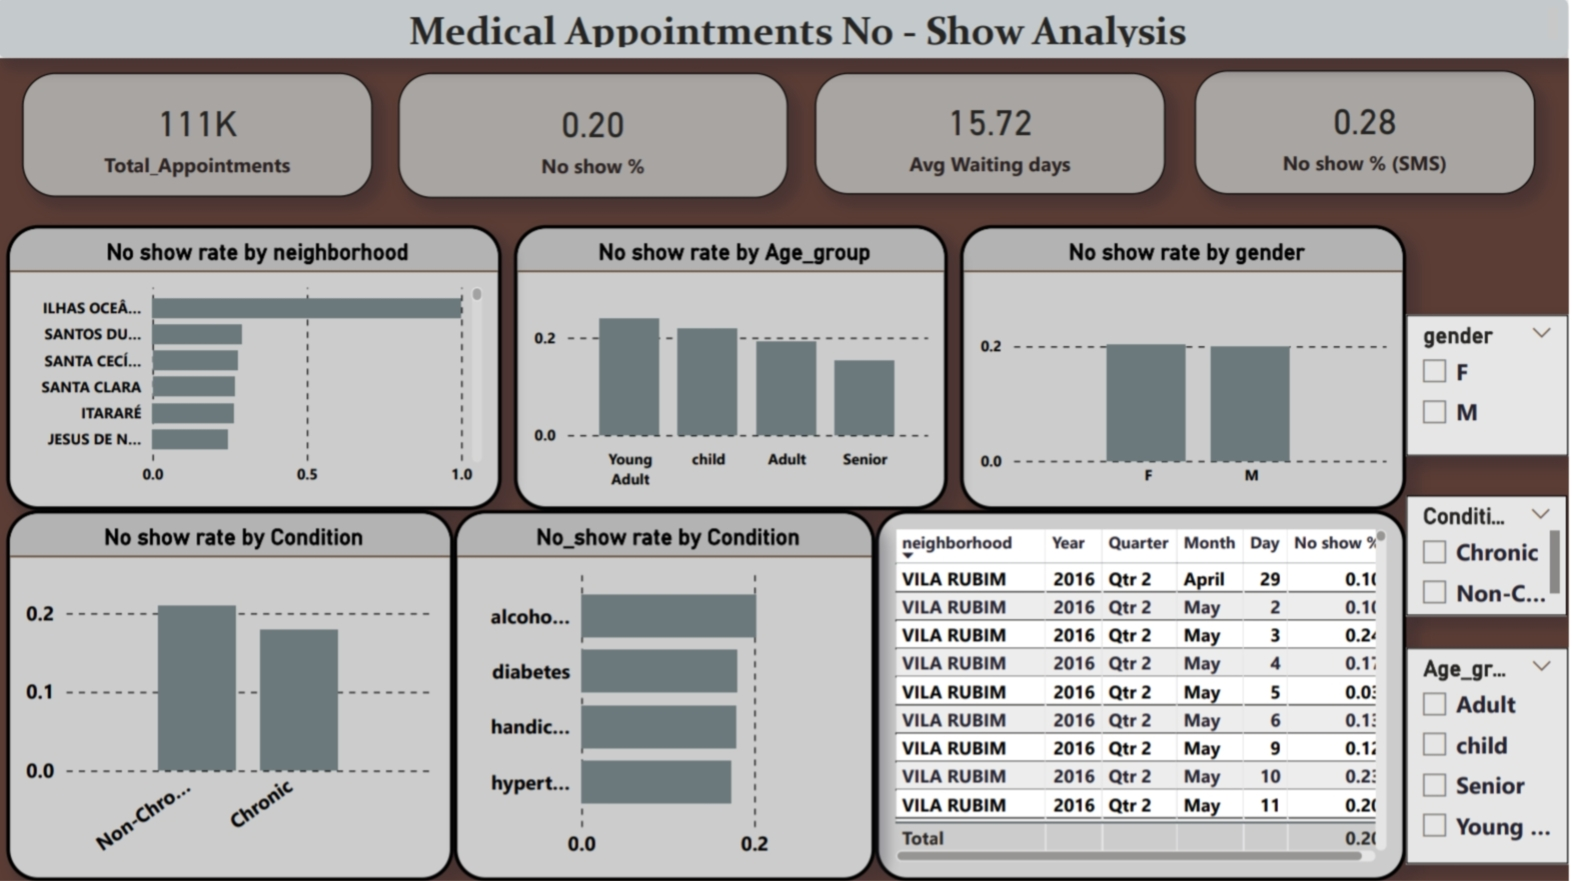

Layout of this report page (visuals, bound fields, positions):
{"tool":"powerbi","page":{"name":"Page 1","canvas":[1280,720],"ordinal":0},"visuals":[{"type":"card","fields":{"Values":["public medical_appointments.No show %"]},"box":[328.3,61.9,316.8,102.2],"z":0},{"type":"card","fields":{"Values":["public medical_appointments.Total_Appointments"]},"box":[21.6,61.9,285.1,100.8],"z":1000},{"type":"card","fields":{"Values":["public medical_appointments.Avg Waiting days"]},"box":[666.7,61.9,285.1,99.4],"z":2000},{"type":"columnChart","title":"No show rate by gender","fields":{"Category":["public medical_appointments.gender"],"Y":["public medical_appointments.No show %"]},"box":[784.8,185.8,362.9,231.8],"z":3000},{"type":"clusteredColumnChart","title":"No show rate by Age_group","fields":{"Category":["public medical_appointments.Age_group"],"Y":["public medical_appointments.No show %"]},"box":[421.9,185.8,352.8,231.8],"z":4000},{"type":"card","fields":{"Values":["public medical_appointments.No show % (SMS)"]},"box":[976.3,60.5,276.5,100.8],"z":5000},{"type":"clusteredBarChart","title":"No show rate by neighborhood","fields":{"Category":["public medical_appointments.neighborhood"],"Y":["public medical_appointments.No show %"]},"box":[8.6,185.8,403.2,231.8],"z":6000},{"type":"columnChart","title":"No show rate by Condition ","fields":{"Category":["public medical_appointments.Chronic"],"Y":["public medical_appointments.No show %"]},"box":[8.6,417.6,364.3,302.4],"z":7000},{"type":"tableEx","fields":{"Values":["public medical_appointments.neighborhood","public medical_appointments.appointment_day.Variation.Date Hierarchy.Year","public medical_appointments.appointment_day.Variation.Date Hierarchy.Quarter","public medical_appointments.appointment_day.Variation.Date Hierarchy.Month","public medical_appointments.appointment_day.Variation.Date Hierarchy.Day","public medical_appointments.No show %"]},"box":[715.7,417.6,432,302.4],"z":8000},{"type":"slicer","fields":{"Values":["public medical_appointments.Age_group"]},"box":[1147.7,529.9,132.5,175.7],"z":9000},{"type":"slicer","fields":{"Values":["public medical_appointments.Chronic"]},"box":[1147.7,406.1,131,97.9],"z":11000},{"type":"slicer","fields":{"Values":["public medical_appointments.gender"]},"box":[1147.7,259.2,132.5,115.2],"z":12000},{"type":"textbox","box":[1.5,0,1279,49.8],"z":13000},{"type":"textbox","box":[1.4,0,1278.7,50.4],"z":14000},{"type":"clusteredBarChart","title":"No_show rate by Condition","fields":{"Category":["Appointments _ Condition.Condition"],"Y":["Appointments _ Condition.Condition no_show rate"]},"box":[373,417.6,342.7,302.4],"z":15000}]}

Visuals, with their boxes in screenshot pixels (x1, y1, x2, y2), scaled from the page's 1280x720 canvas onto the 1572x881 screenshot:
card - public medical_appointments.No show %: 403 76 792 201
card - public medical_appointments.Total_Appointments: 27 76 377 199
card - public medical_appointments.Avg Waiting days: 819 76 1169 197
"No show rate by gender" columnChart: 964 227 1410 511
"No show rate by Age_group" clusteredColumnChart: 518 227 951 511
card - public medical_appointments.No show % (SMS): 1199 74 1539 197
"No show rate by neighborhood" clusteredBarChart: 11 227 506 511
"No show rate by Condition " columnChart: 11 511 458 880
tableEx - public medical_appointments.neighborhood x public medical_appointments.appointment_day.Variation.Date Hierarchy.Year: 879 511 1410 880
slicer - public medical_appointments.Age_group: 1410 648 1571 863
slicer - public medical_appointments.Chronic: 1410 497 1570 617
slicer - public medical_appointments.gender: 1410 317 1571 458
textbox: 2 0 1571 61
textbox: 2 0 1571 62
"No_show rate by Condition" clusteredBarChart: 458 511 879 880
